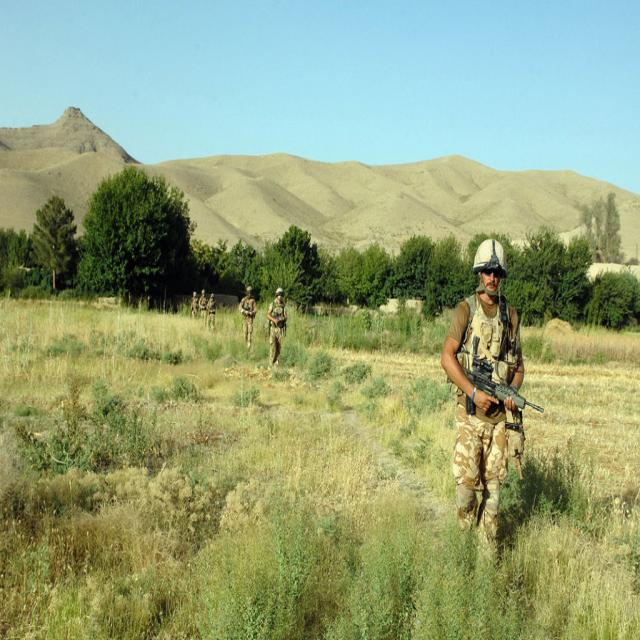Weapon: (456, 333, 538, 426), (243, 308, 255, 324), (276, 316, 289, 330), (209, 306, 218, 314)
